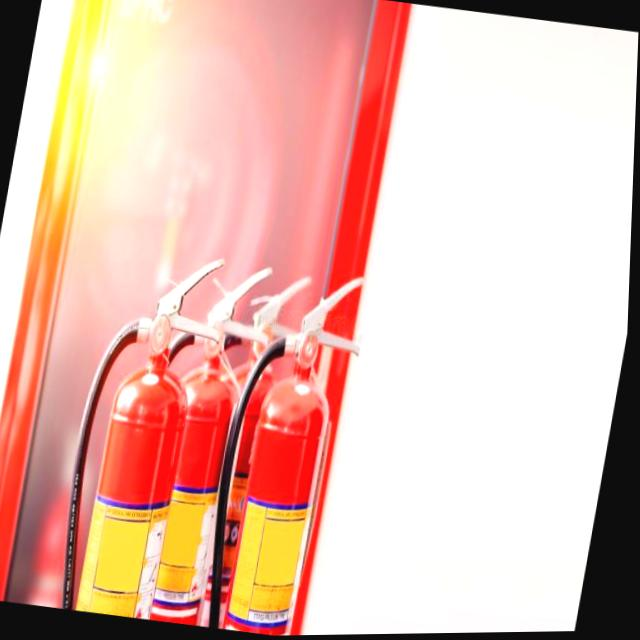FireExtinguisher: (50, 240, 239, 624), (194, 258, 376, 638), (114, 246, 288, 630), (158, 259, 322, 635)
